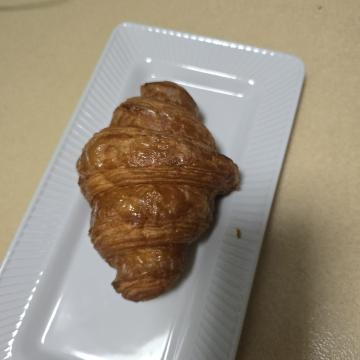croissant: (66, 105, 315, 296)
